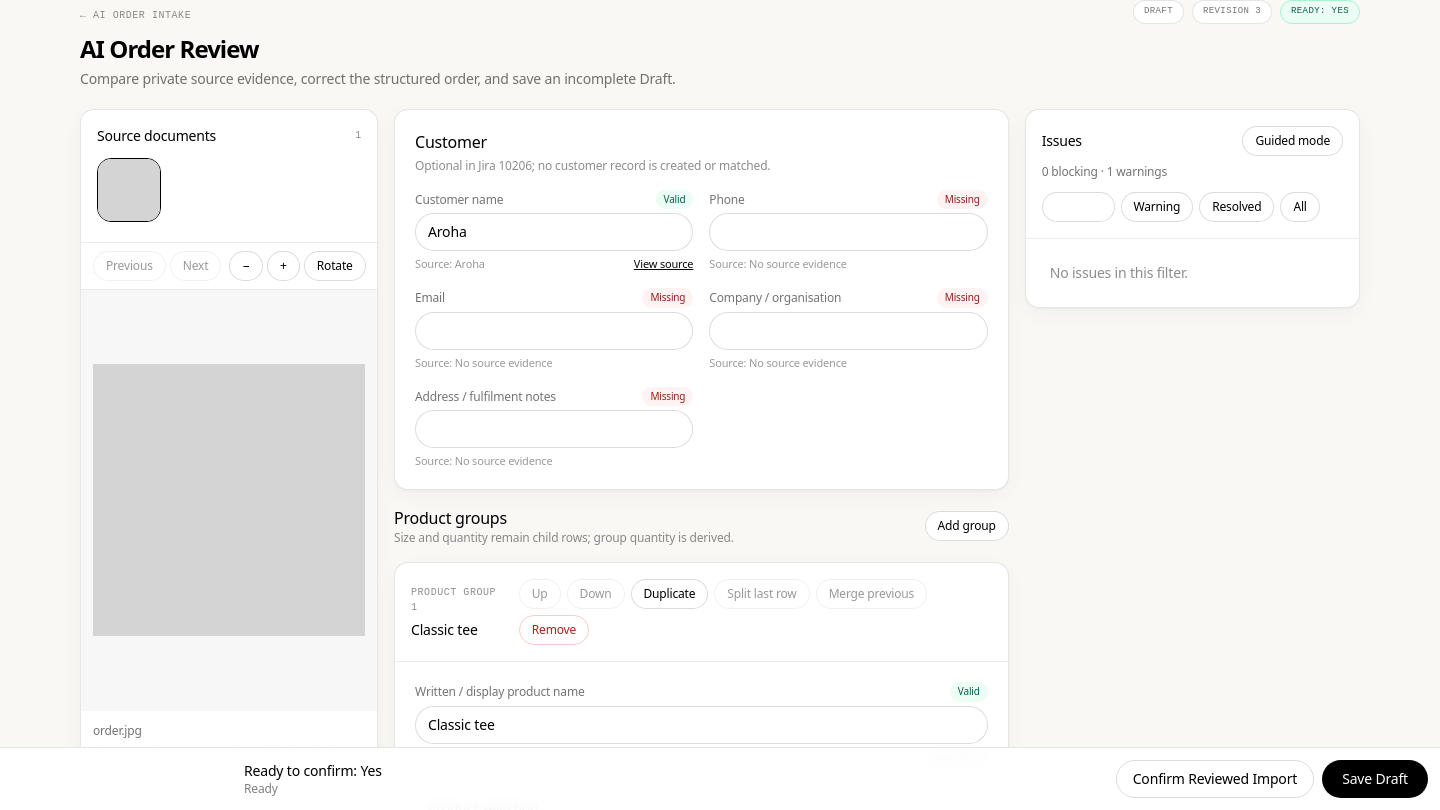
AI Order Review workspace › confirms a ready Draft separately without materializing an Order
Click the button "Confirm Reviewed Import" at (1215, 779), box x1=1116 y1=760 x2=1314 y2=798
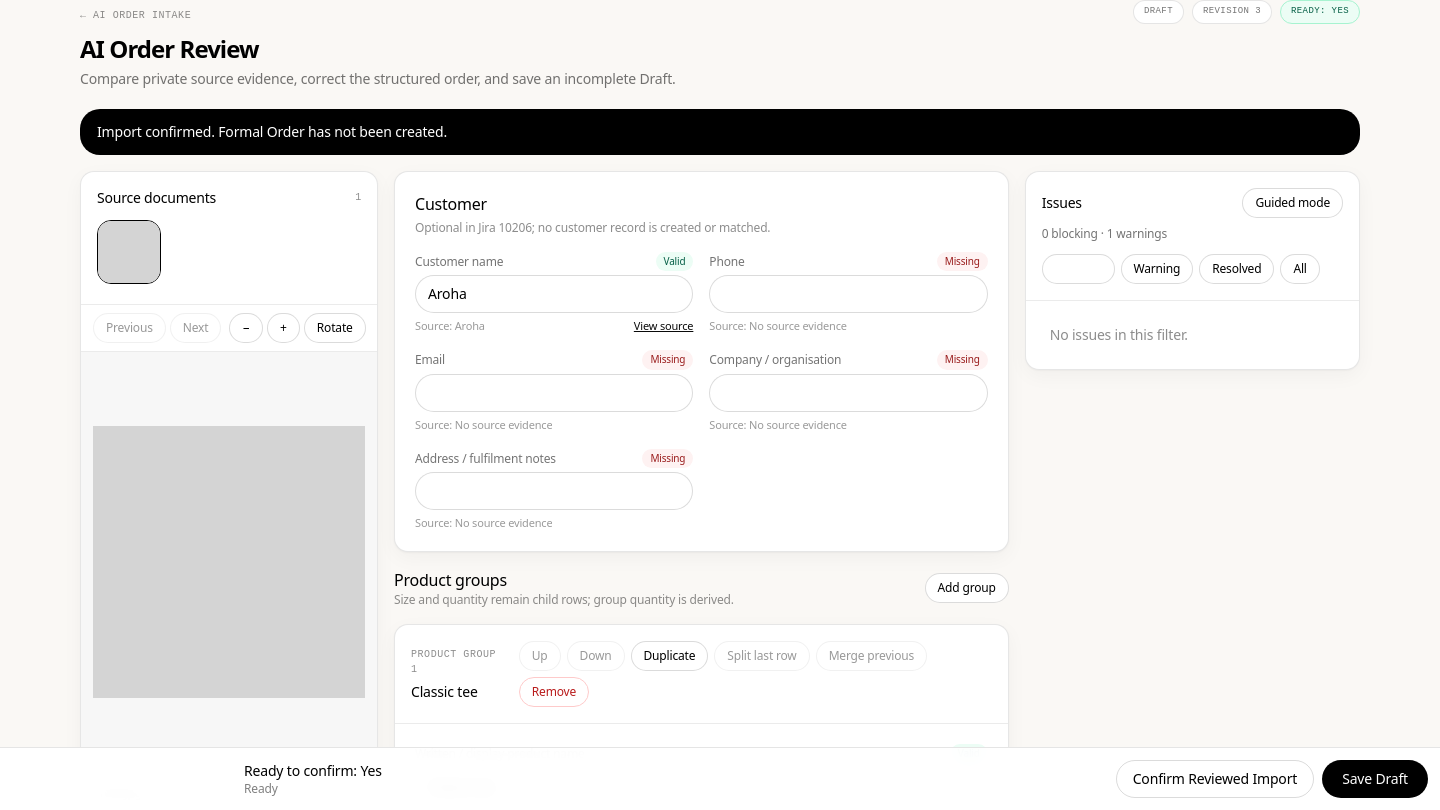
Now the text "Import confirmed. Formal Order has not been created." is shown, box x1=80 y1=109 x2=1360 y2=155
